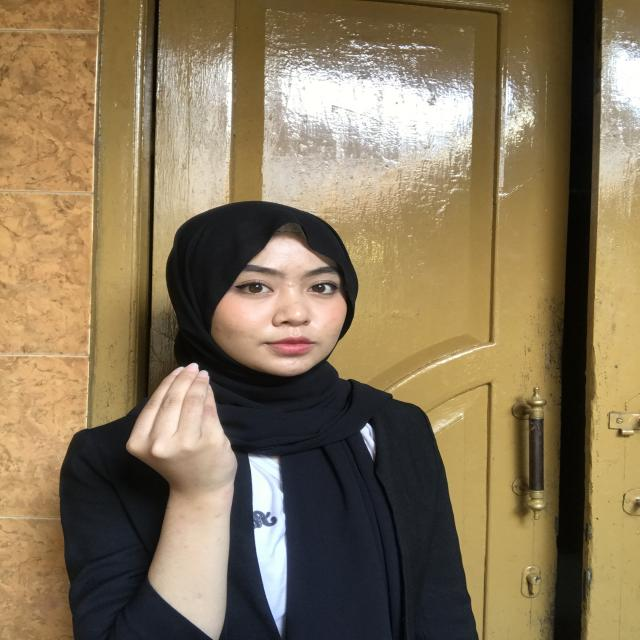kapan: (127, 350, 245, 506)
